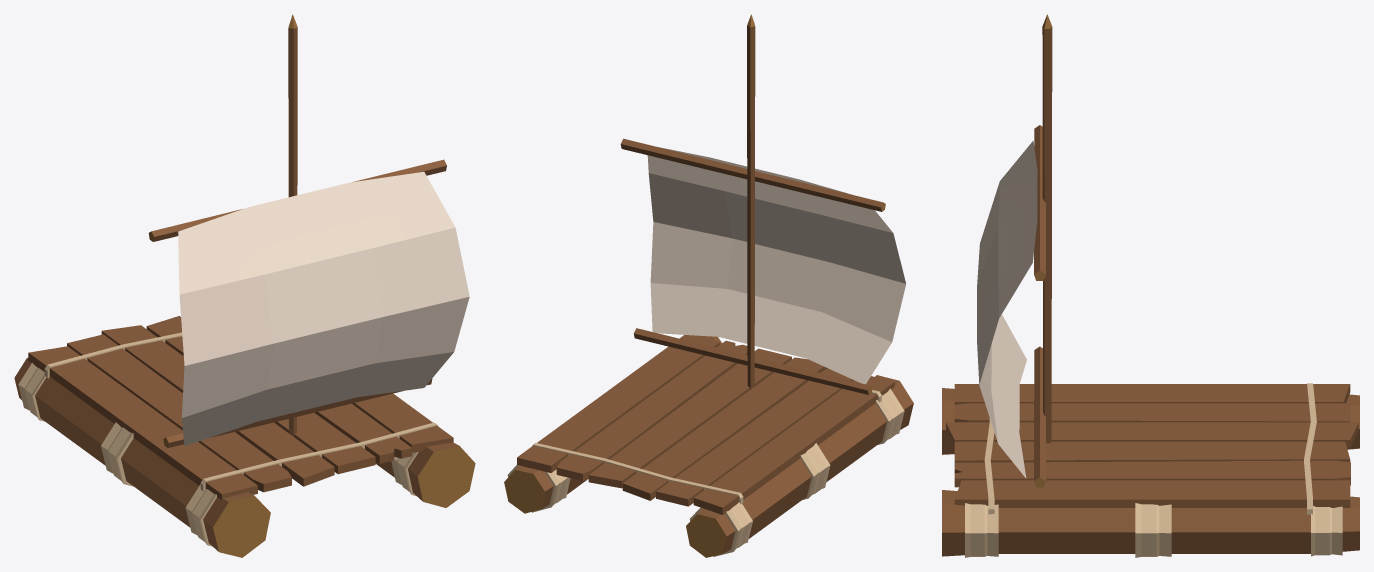
Rendered from raft-flag.glb.
3 views of the same model, side by side, from view 1: azimuth 30°, elevation 25°; view 2: azimuth 150°, elevation 25°; view 3: azimuth 270°, elevation 25° (orthographic). The views are drawn at different scales.
Visible parts, largest first — view 1: raft-flag; view 2: raft-flag; view 3: raft-flag.
Boxes of the visible parts, left/top/right/bottom form: raft-flag: left=14, top=14, right=475, bottom=557; raft-flag: left=504, top=14, right=913, bottom=557; raft-flag: left=942, top=14, right=1359, bottom=557.
Bounding box in the file's own units: 2.34 × 3.69 × 2.84.
1 material, 1 textured.
